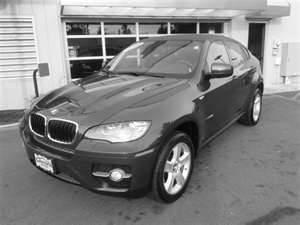car: (20, 36, 266, 203)
